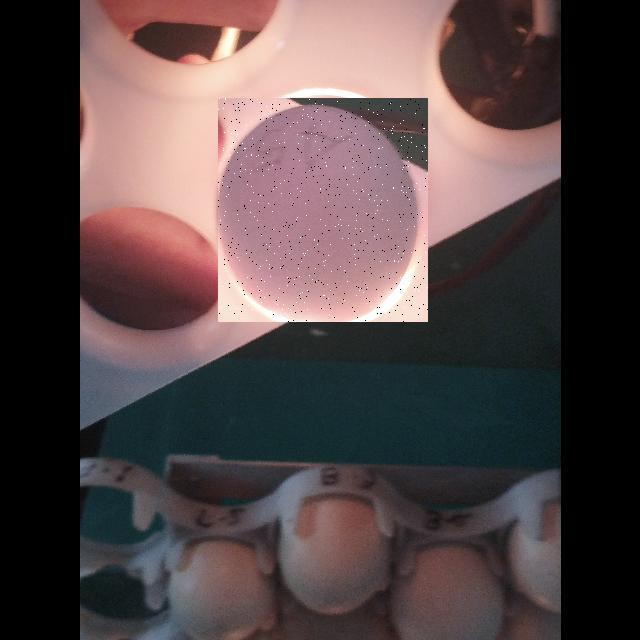A - Good: (217, 98, 424, 327)
